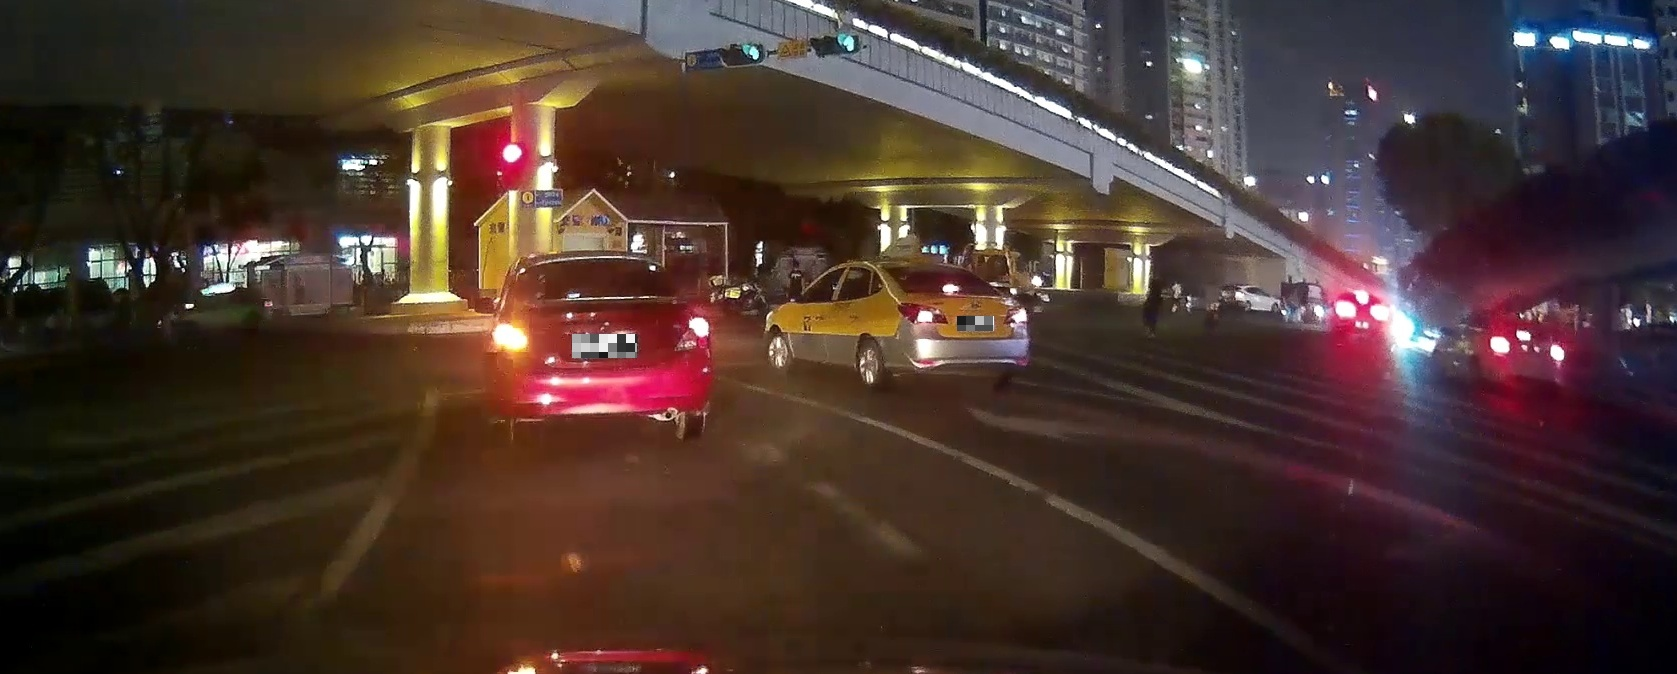L_light: (897, 302, 949, 325), (493, 324, 529, 351), (1490, 336, 1509, 352)
R_light: (674, 317, 710, 350), (1003, 305, 1028, 325), (1550, 344, 1565, 359)
T_light: (580, 259, 613, 265), (942, 284, 961, 293), (1517, 331, 1530, 339)
night-brake: (872, 261, 1031, 387), (1483, 313, 1566, 397)
night-left: (491, 250, 712, 440)
plate_1: (572, 334, 637, 358)
plate_2: (957, 316, 994, 331)
